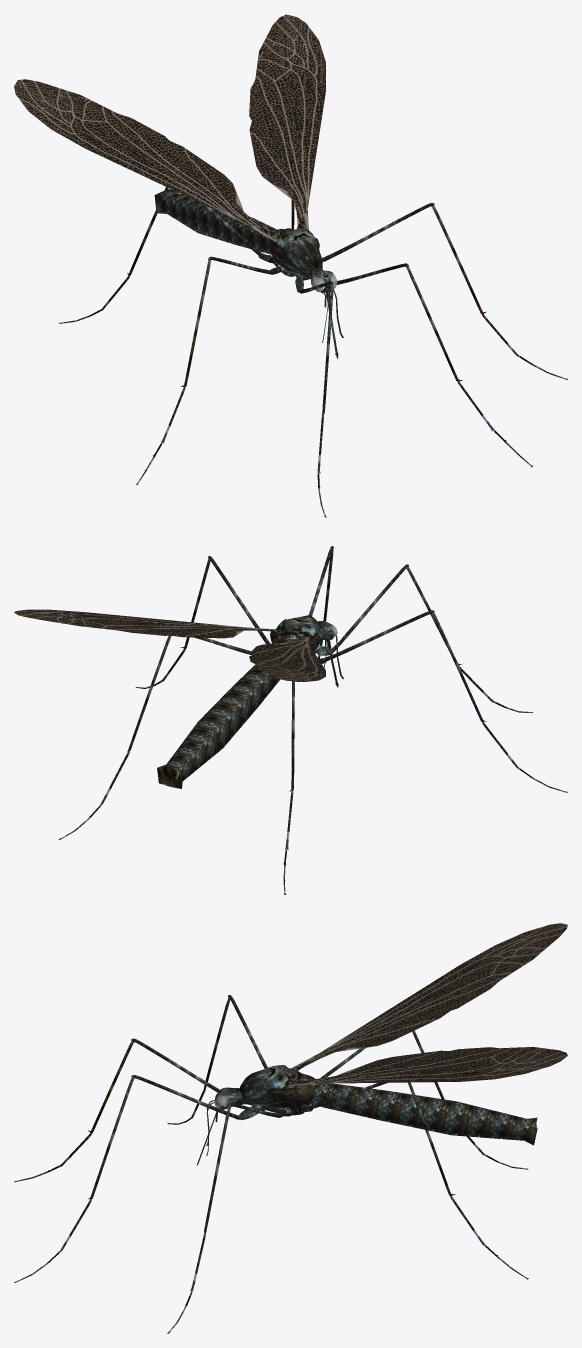
Rendered from MOSQUITO_3DMODEL.FBX.
The picture shows the model from 3 angles, top to bottom: view 1: azimuth 30°, elevation 25°; view 2: azimuth 150°, elevation 25°; view 3: azimuth 270°, elevation 25°; orthographic projection.
Parts seen in each view (by area): view 1: Object001, Object004, Box001, Object003; view 2: Object001, Object004, Object003, Box001; view 3: Object001, Object003, Object004, Box001.
Part boxes in pixels (bbox=[...]): Object001: bbox=[14, 14, 325, 242]; Object004: bbox=[59, 187, 567, 517]; Box001: bbox=[258, 228, 343, 358]; Object003: bbox=[154, 189, 277, 254]; Object001: bbox=[14, 609, 325, 681]; Object004: bbox=[59, 546, 567, 894]; Object003: bbox=[157, 664, 280, 788]; Box001: bbox=[270, 615, 343, 687]; Object001: bbox=[287, 923, 567, 1086]; Object003: bbox=[309, 1083, 537, 1145]; Object004: bbox=[14, 995, 528, 1333]; Box001: bbox=[196, 1065, 317, 1165].
Size of the model in its own units: 2.84 by 1.52 by 3.15.
Materials: 3 (3 with a texture image).
